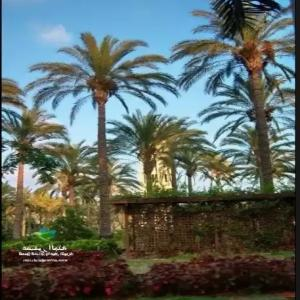palm tree: (25, 31, 179, 239), (168, 0, 295, 193), (104, 109, 211, 196)
